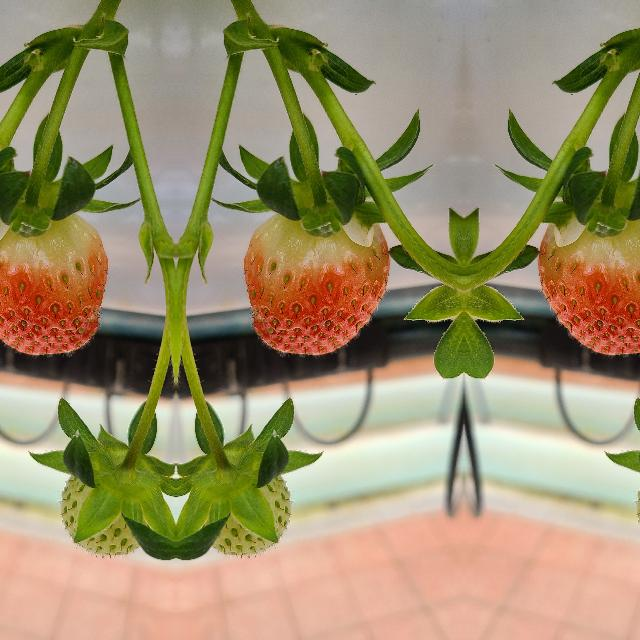Health_100: (243, 213, 389, 354), (0, 213, 107, 354), (537, 213, 640, 354)
Health_25: (185, 450, 289, 556), (61, 450, 165, 556)
